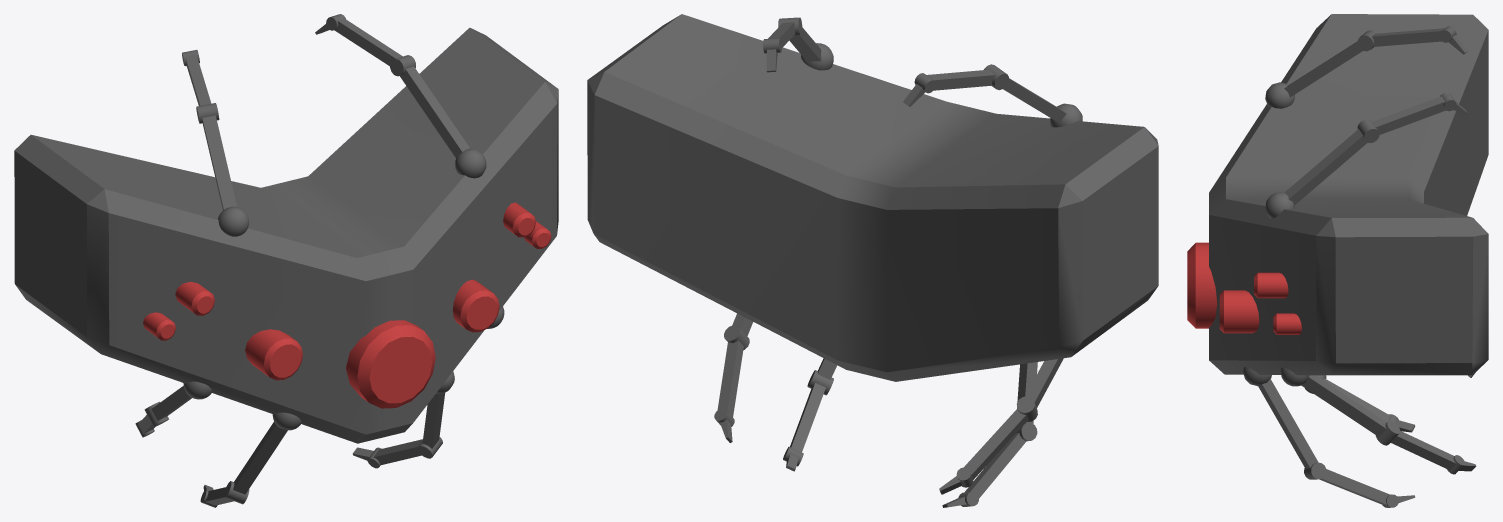
The model's file is Boss_Headset.fbx.
The picture shows the model from 3 angles, left to right: view 1: azimuth 30°, elevation 25°; view 2: azimuth 150°, elevation 25°; view 3: azimuth 270°, elevation 25°; orthographic projection. The views are drawn at different scales.
Parts seen in each view (by area): view 1: Headset1, HeadSet_SideEyes, pCube1 (×5), HeadSet_CenterEye, pCube2 (×3), Leg5, Leg6; view 2: Headset1, pCube2 (×5), pCube1 (×2); view 3: Headset1, pCube1 (×4), pCube2 (×5), HeadSet_SideEyes, HeadSet_CenterEye, Leg6, Leg5, pCylinder8, Leg1.
Boxes of the visible parts, bbox=[...] form: Headset1: bbox=[14, 27, 558, 443]; HeadSet_SideEyes: bbox=[143, 202, 551, 380]; pCube1 (×5): bbox=[151, 66, 469, 494]; HeadSet_CenterEye: bbox=[346, 320, 435, 408]; pCube2 (×3): bbox=[185, 18, 422, 465]; Leg5: bbox=[455, 148, 486, 178]; Leg6: bbox=[218, 206, 248, 236]; Headset1: bbox=[587, 14, 1158, 381]; pCube2 (×5): bbox=[717, 69, 1027, 498]; pCube1 (×2): bbox=[1003, 78, 1066, 407]; Headset1: bbox=[1209, 14, 1488, 375]; pCube1 (×4): bbox=[1258, 41, 1386, 468]; pCube2 (×5): bbox=[1319, 28, 1456, 504]; HeadSet_SideEyes: bbox=[1219, 272, 1301, 334]; HeadSet_CenterEye: bbox=[1187, 242, 1217, 328]; Leg6: bbox=[1265, 82, 1294, 108]; Leg5: bbox=[1265, 192, 1294, 218]; pCylinder8: bbox=[1357, 119, 1379, 143]; Leg1: bbox=[1280, 367, 1309, 386].
Bounding box in the file's own units: 24 × 21 × 14.
